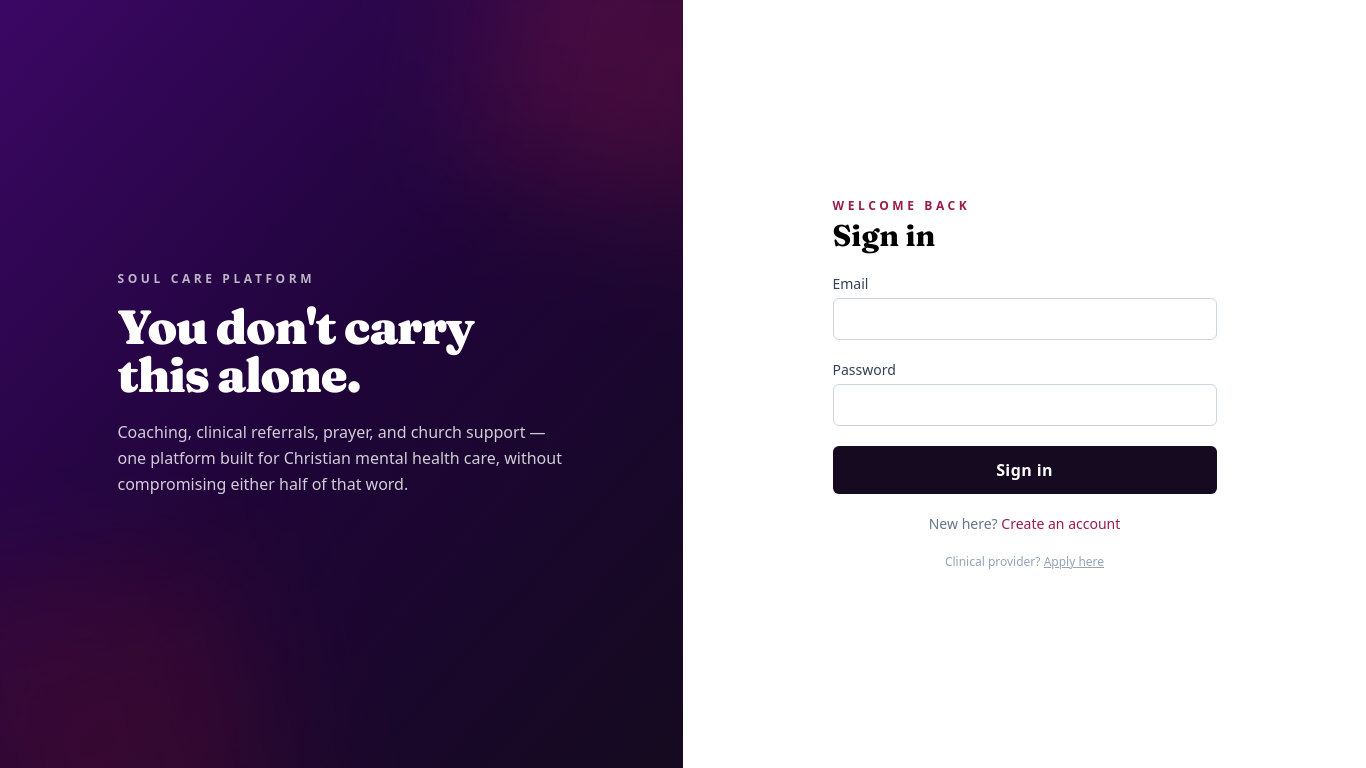
Scenario: App — login flow › logs in as a church admin and reaches the church dashboard
Type "church-admin@example.com" into the field labelled "Email".
click(1024, 319); type("church-admin@example.com")  # box [832, 298, 1216, 340]
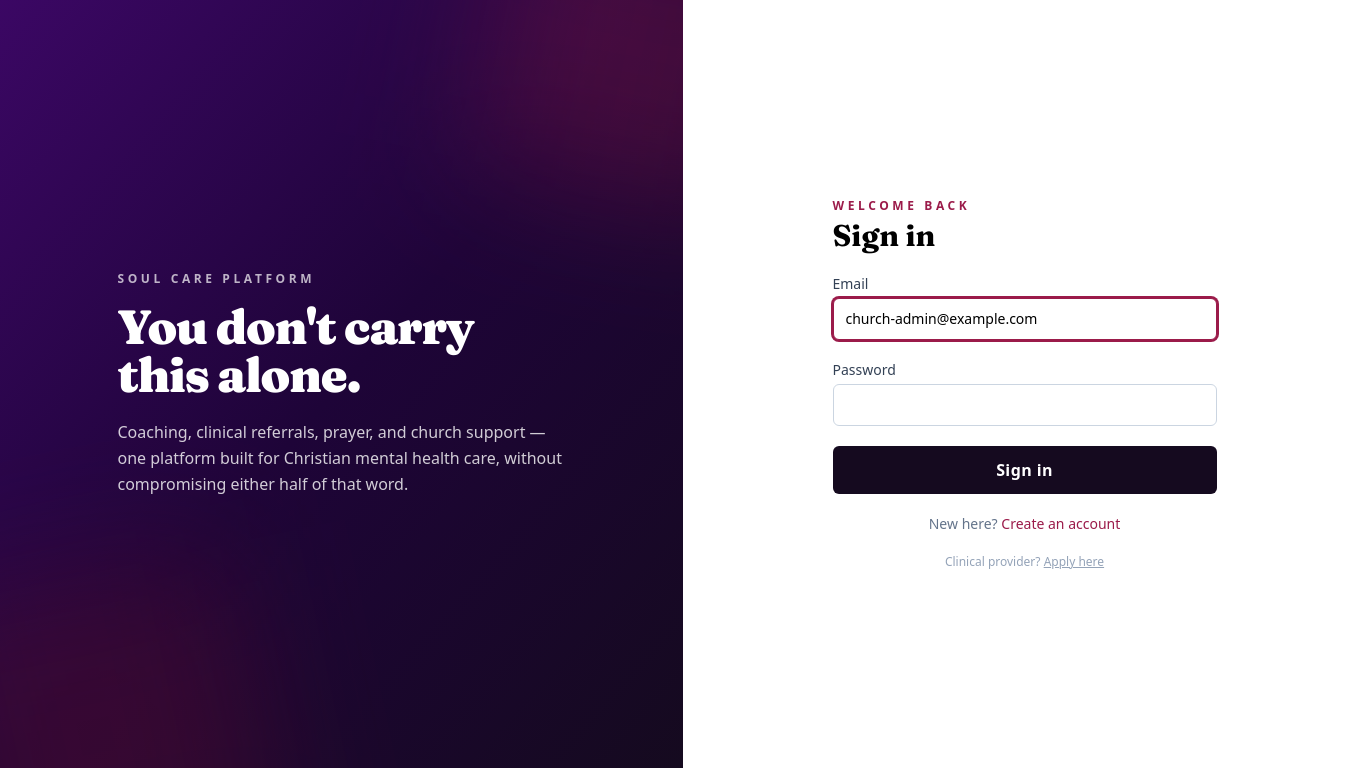
Type "correcthorsebattery" into the password field labelled "Password".
click(1024, 405); type("correcthorsebattery")  # box [832, 384, 1216, 426]
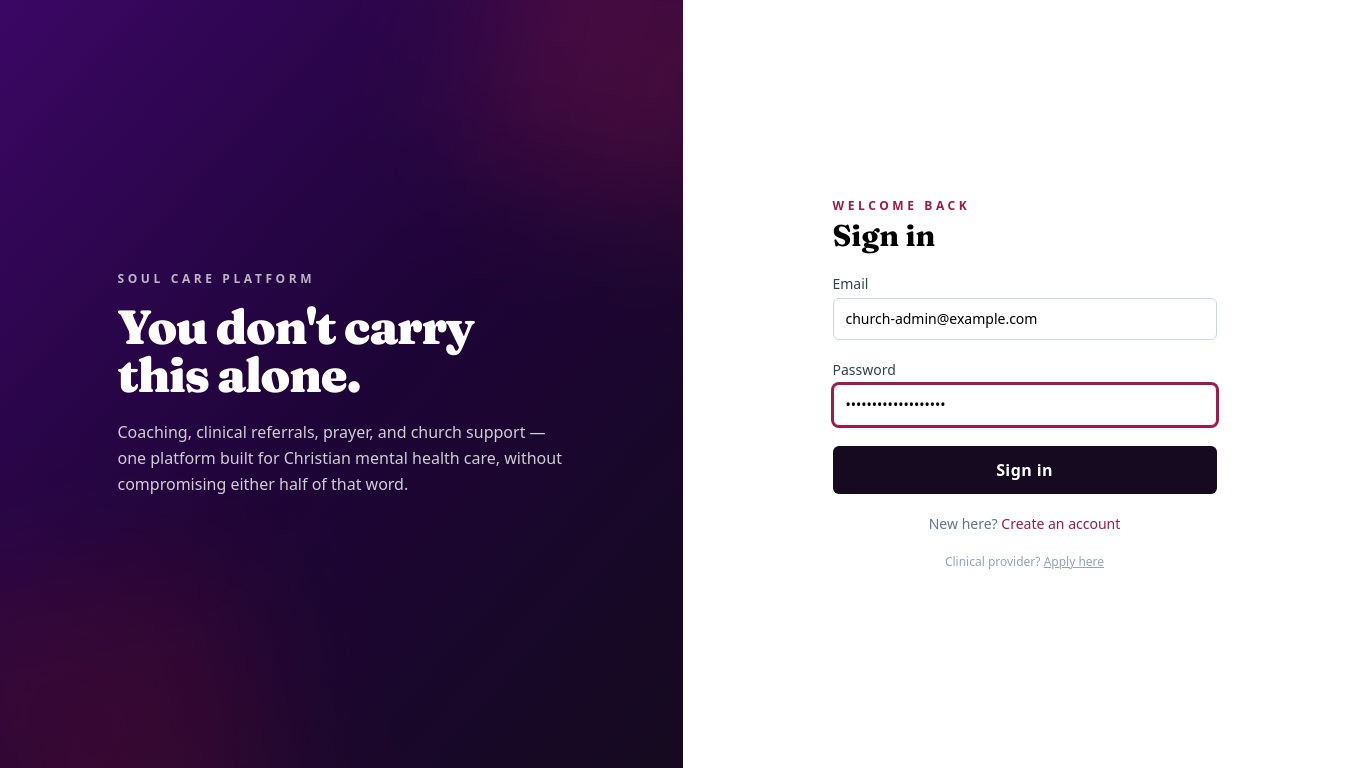
Click the button "Sign in".
click(1024, 470)  # box [832, 446, 1216, 494]
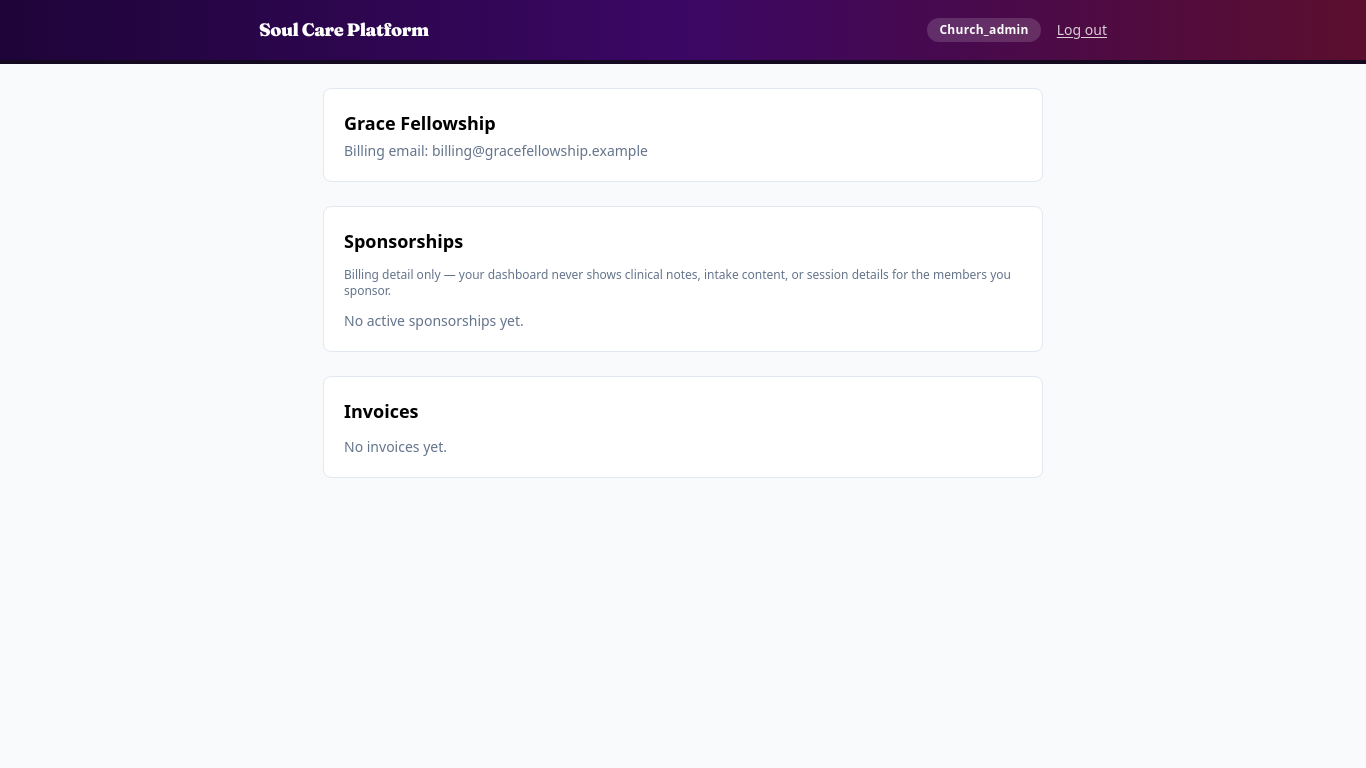
Expected: the heading "Grace Fellowship" is shown, [344, 111, 496, 135]
Expected: the text "No active sponsorships yet." is shown, [344, 311, 524, 330]
